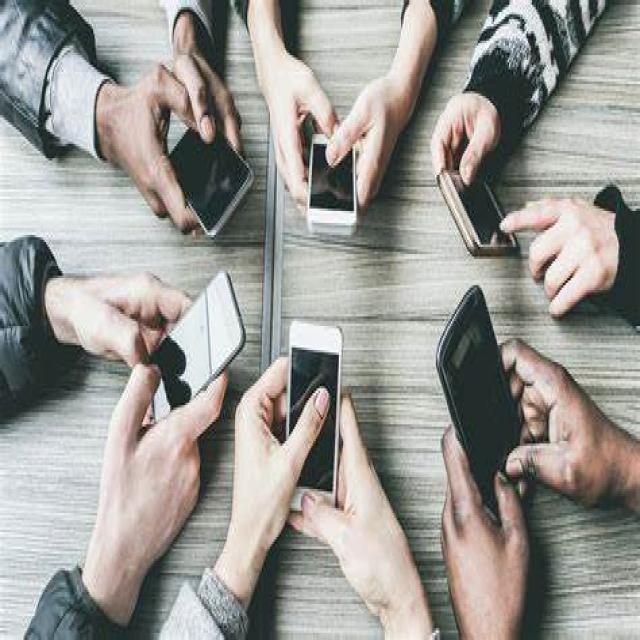smart phone: (406, 274, 555, 525), (101, 258, 261, 440), (278, 310, 372, 561), (156, 105, 265, 264), (294, 118, 385, 276), (425, 156, 525, 292)
